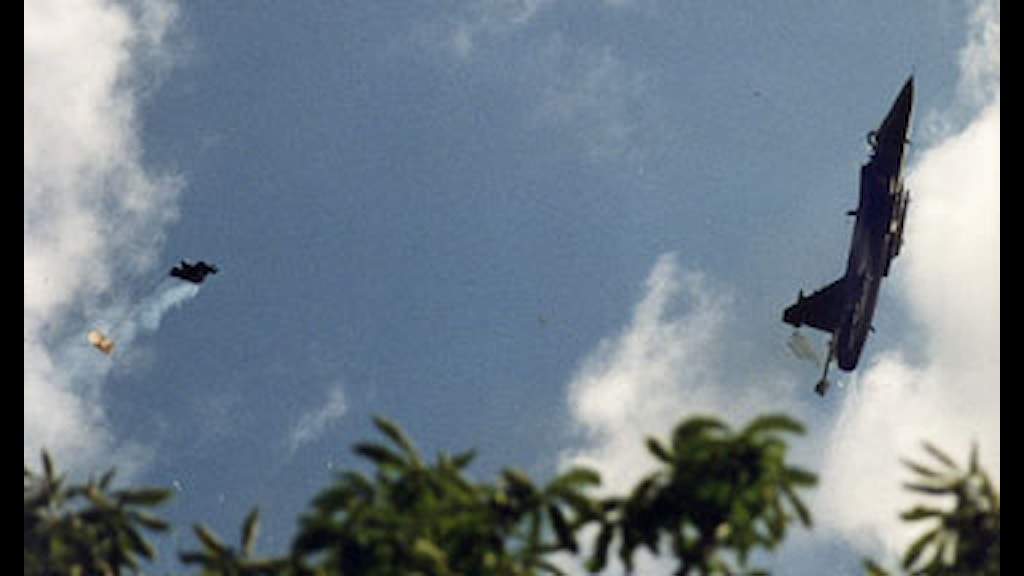JAS39: (782, 60, 916, 373)
